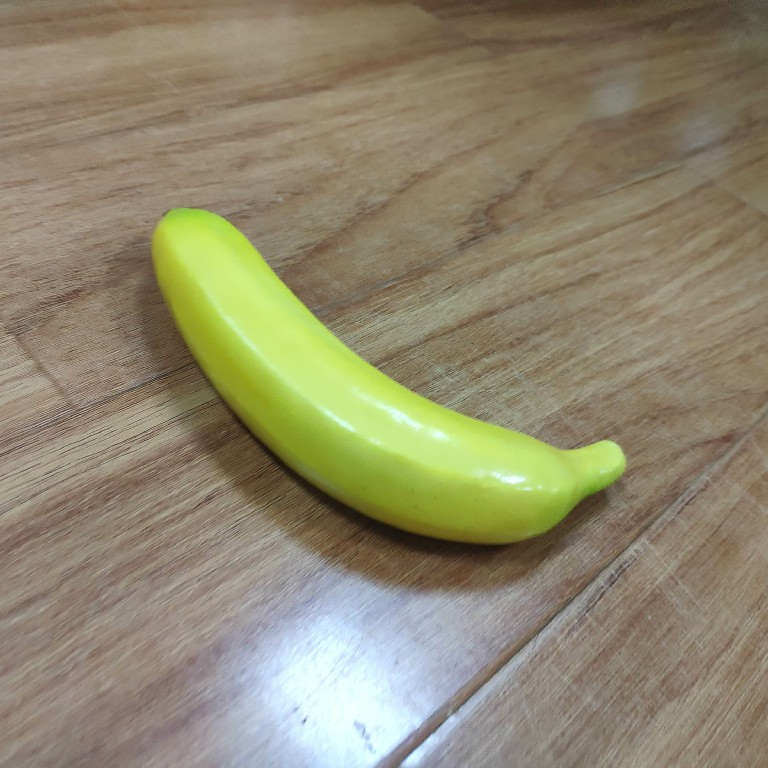fruit_banana: (145, 200, 633, 552)
